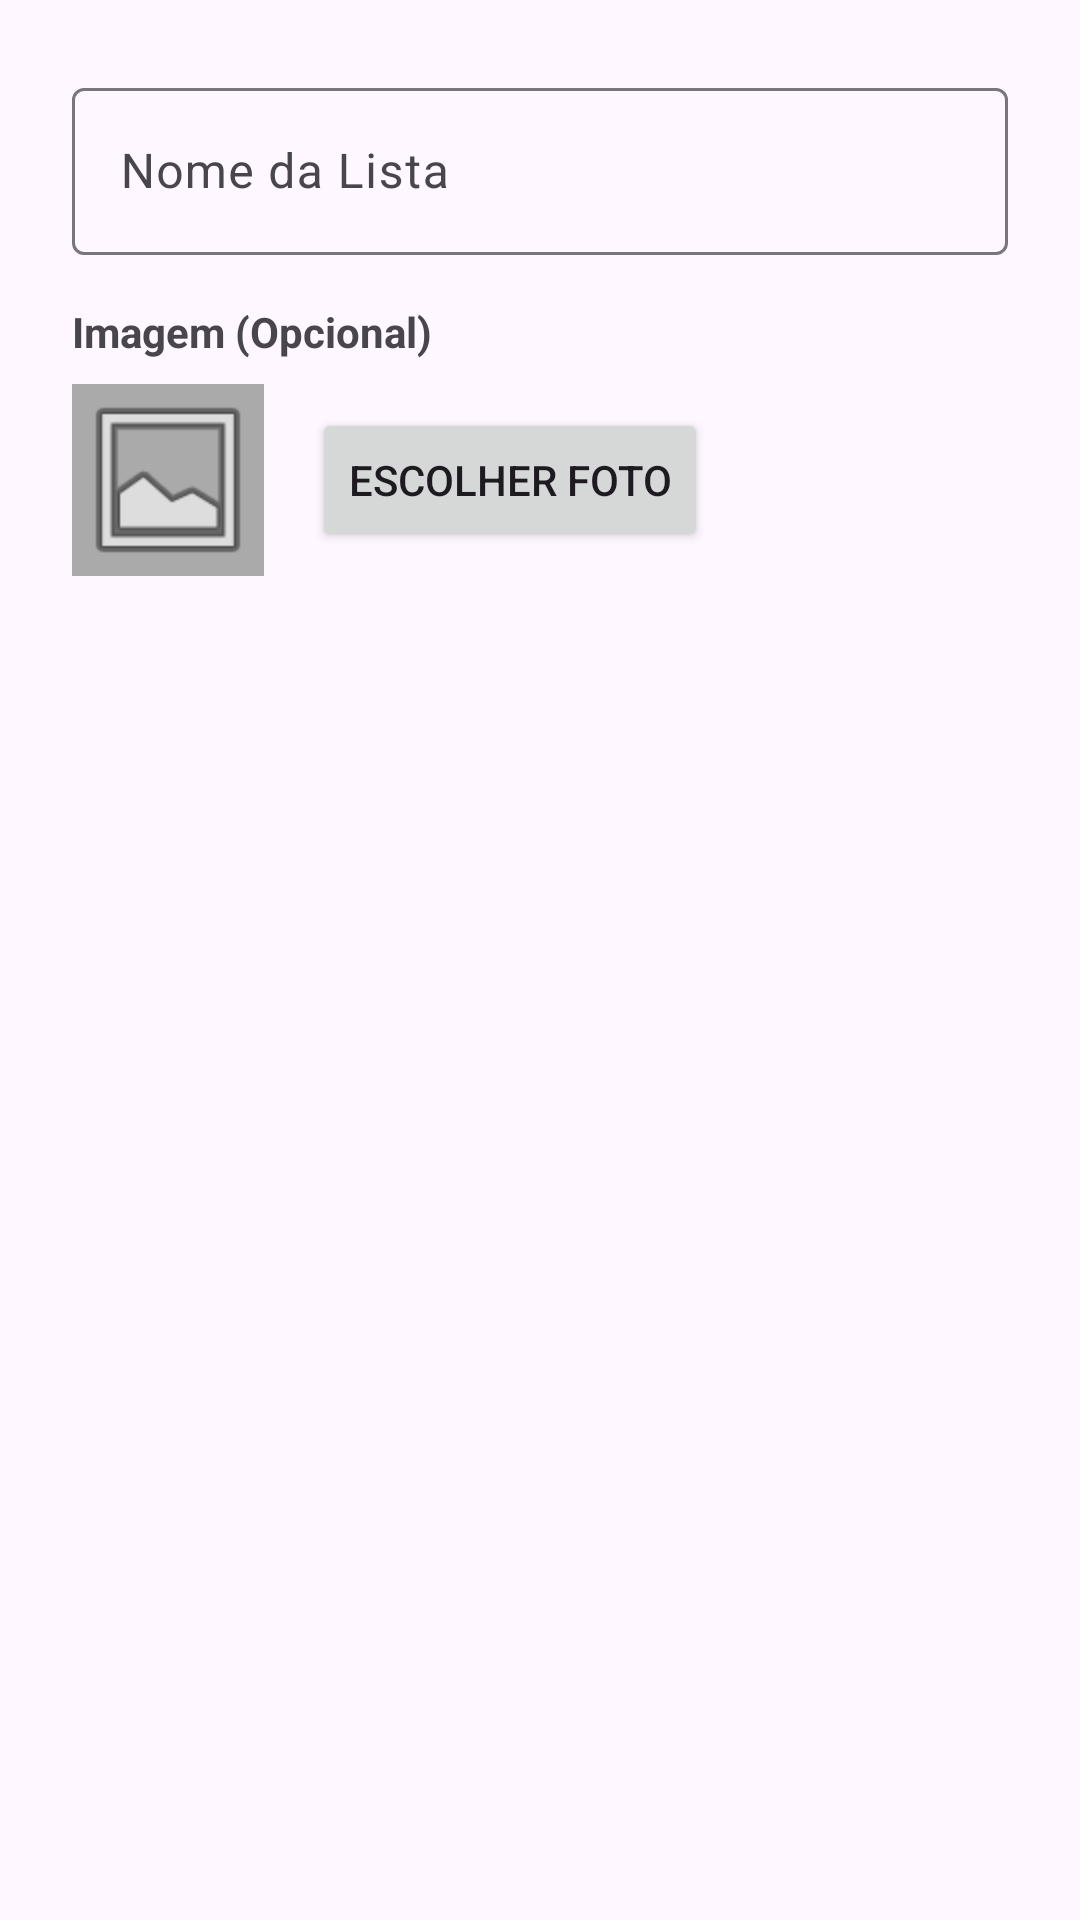

Icons on this 1080 × 1920 Android screen, each with the point to tap as point (x, y):
Pré-visualização da Imagem da Lista: point (168, 480)
